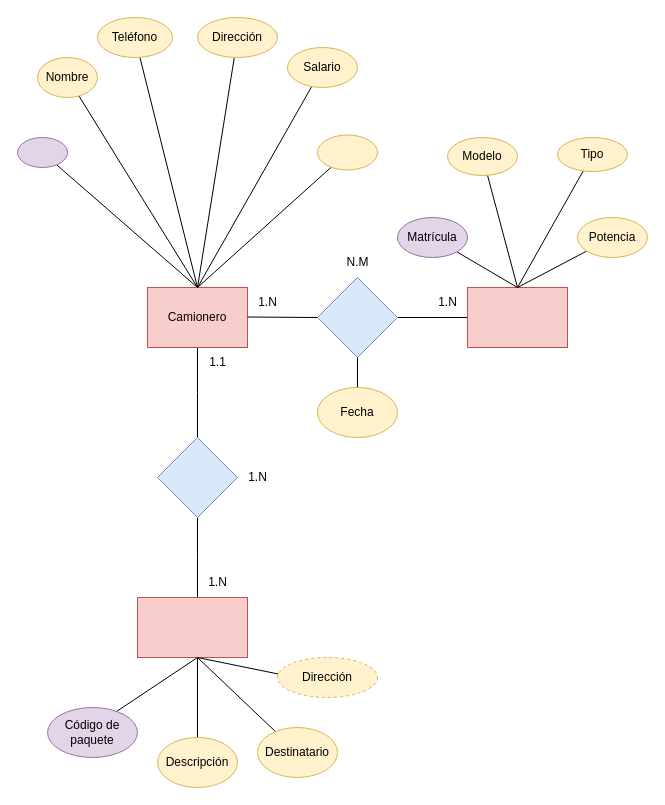
Image size: 665x805. Some labels were removed from this diagram. The centre of each missing label's shape, as x and y in pixels:
"Camion" goes at (x=517, y=317).
"Conduce" goes at (x=357, y=317).
"DNI" goes at (x=42, y=152).
"Paquete" goes at (x=192, y=627).
"Población" goes at (x=347, y=152).
"Transporta" goes at (x=197, y=477).
